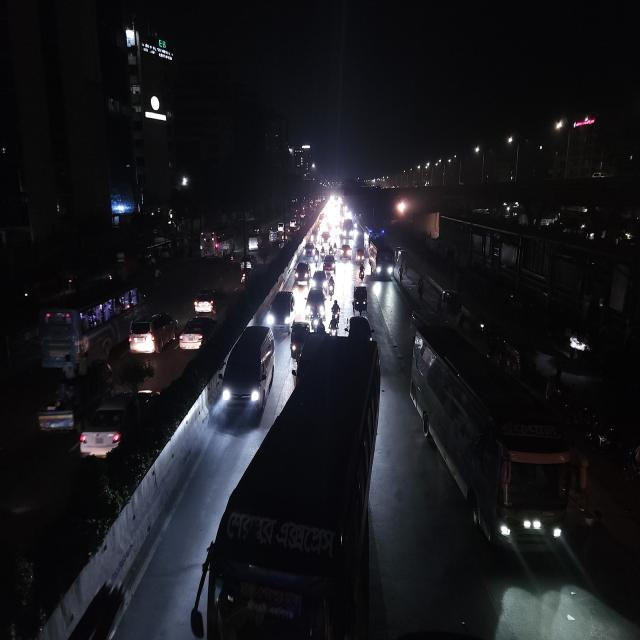bus: (203, 327, 384, 640), (410, 316, 576, 557), (38, 281, 142, 366), (367, 234, 395, 284), (198, 232, 236, 262), (340, 219, 356, 242)
car: (218, 321, 276, 426), (78, 387, 158, 461), (127, 308, 178, 356), (177, 315, 220, 353), (265, 288, 298, 330), (192, 286, 224, 316), (306, 286, 326, 321), (293, 260, 312, 287), (247, 229, 263, 253), (322, 254, 338, 276), (239, 254, 254, 275), (302, 243, 316, 260), (340, 242, 352, 261)
cng: (440, 288, 464, 324), (351, 282, 369, 317), (355, 243, 367, 264)
motorcycle: (288, 318, 308, 370), (330, 298, 341, 334), (326, 276, 336, 298), (358, 262, 367, 284)
pedestrian: (417, 280, 426, 303), (398, 265, 404, 286)
pickup_van: (36, 354, 93, 435)
